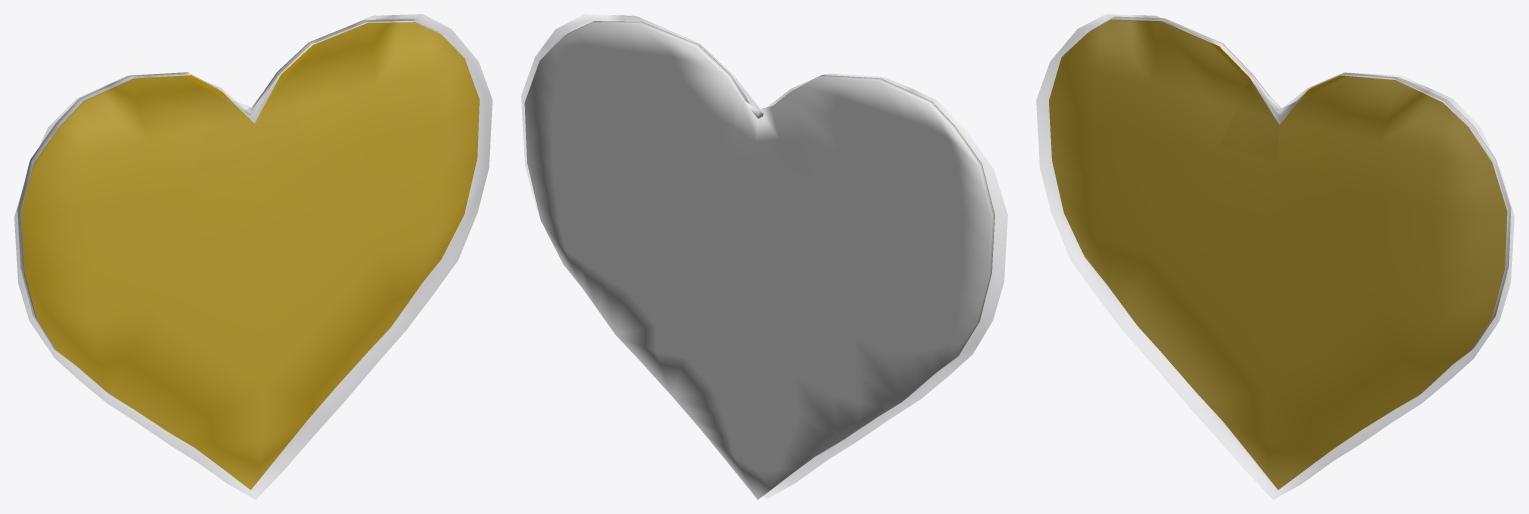
Rendered from heart_yell.glb.
3 renders of one model, left to right at view 1: azimuth 30°, elevation 25°; view 2: azimuth 150°, elevation 25°; view 3: azimuth 330°, elevation 25°, orthographic.
Visible parts, largest first — view 1: 平面, PHOTO_PLANE, 平面11; view 2: 平面11, 平面; view 3: 平面, PHOTO_PLANE, 平面11.
Boxes of the visible parts, bbox=[...] form: 平面: bbox=[14, 14, 492, 499]; PHOTO_PLANE: bbox=[21, 22, 479, 489]; 平面11: bbox=[17, 19, 439, 391]; 平面11: bbox=[524, 21, 994, 499]; 平面: bbox=[521, 14, 1007, 498]; 平面: bbox=[1036, 14, 1514, 499]; PHOTO_PLANE: bbox=[1049, 19, 1507, 489]; 平面11: bbox=[1091, 16, 1511, 394].
Bounding box in the file's own units: 2.28 × 2.05 × 0.1344.
